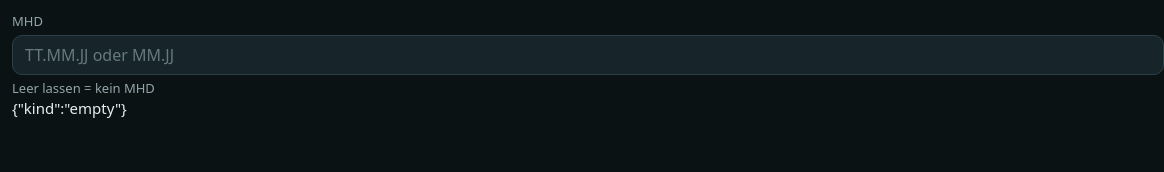
Test: BestBeforeField › zeigt beim Tippen, welches Datum verstanden wurde
The width and height of the screenshot is (1164, 172).
Type "250327" into the field labelled "MHD" at [588, 55], box [25,36,1151,74]
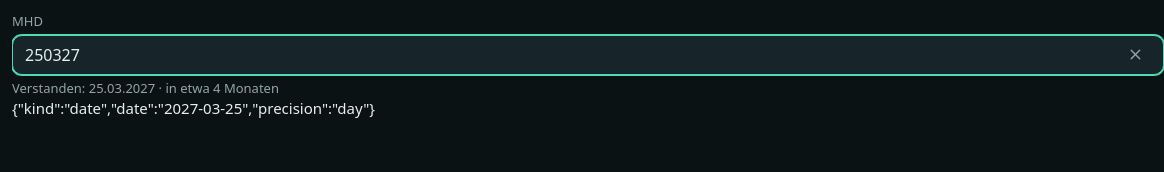
Check: the text "{\"kind\":\"date\",\"date\":\"2027-03-25\",\"precision\":\"day\"}" is shown, box [12,98,375,118]
